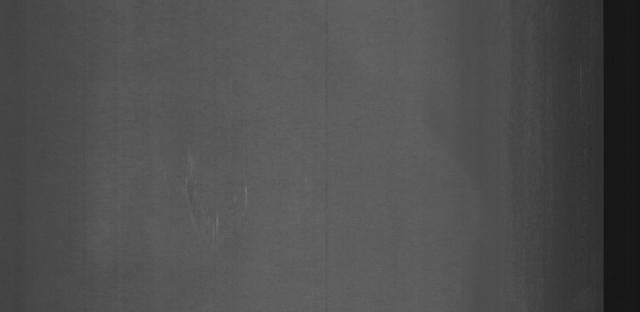silk_spot: (158, 153, 270, 254)
